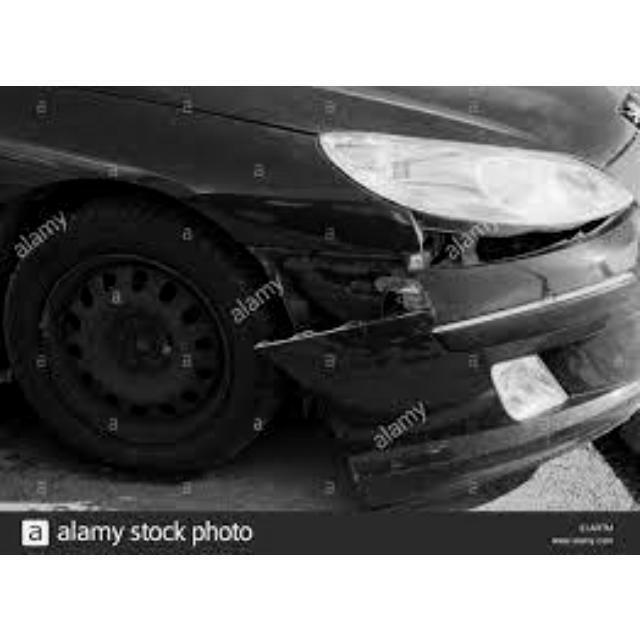front-bumper-dent: (240, 183, 635, 483)
